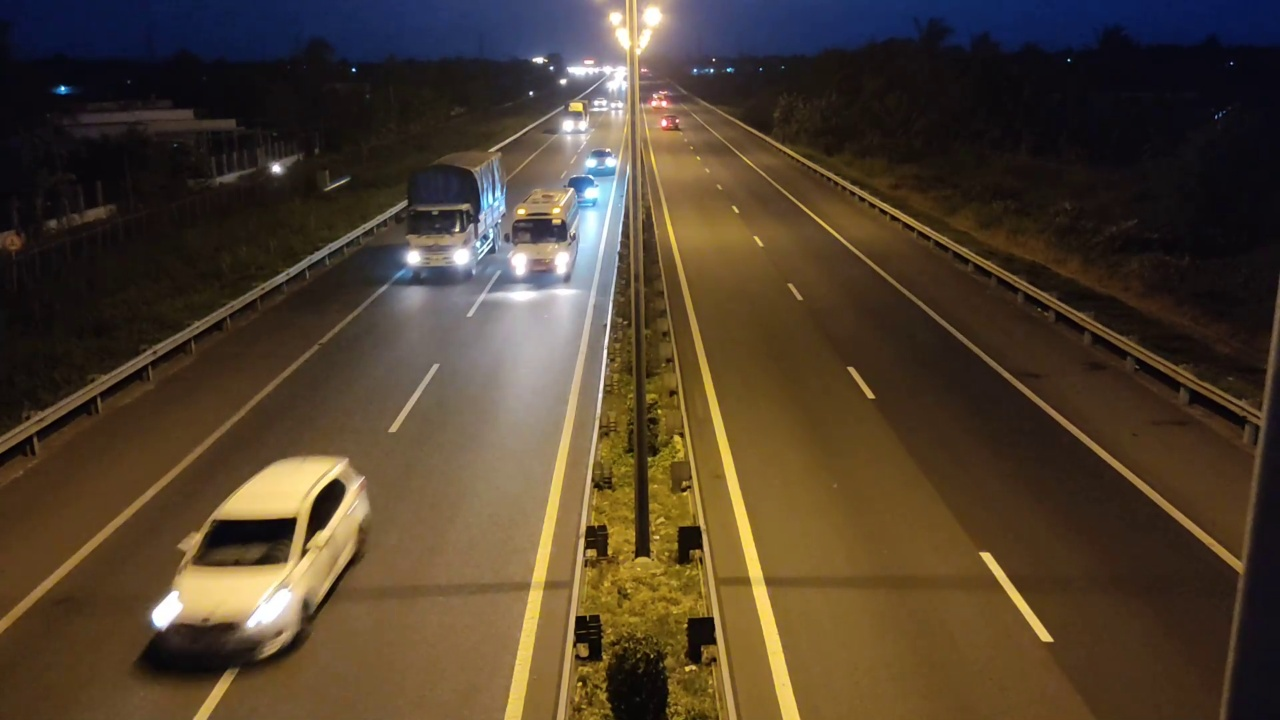car: (146, 453, 372, 669), (565, 174, 599, 205)
truck: (404, 149, 510, 283)
